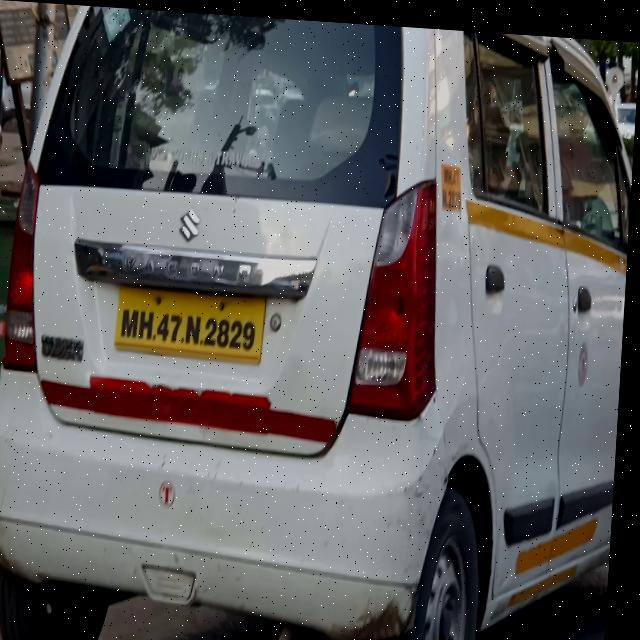plate: (119, 280, 272, 365)
